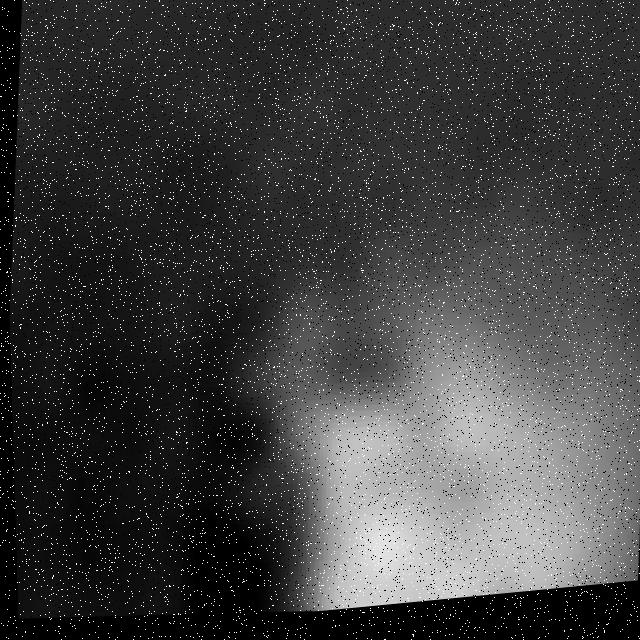person: (263, 212, 610, 622)
